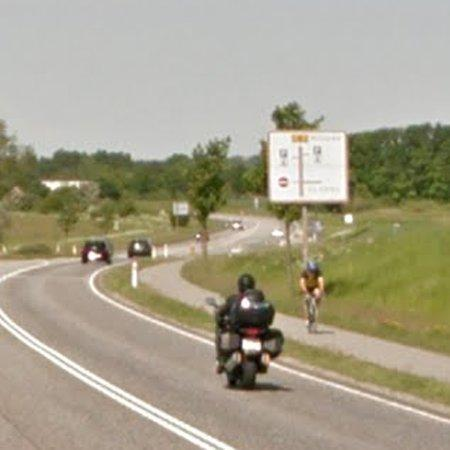motorcycles: (217, 290, 285, 390)
